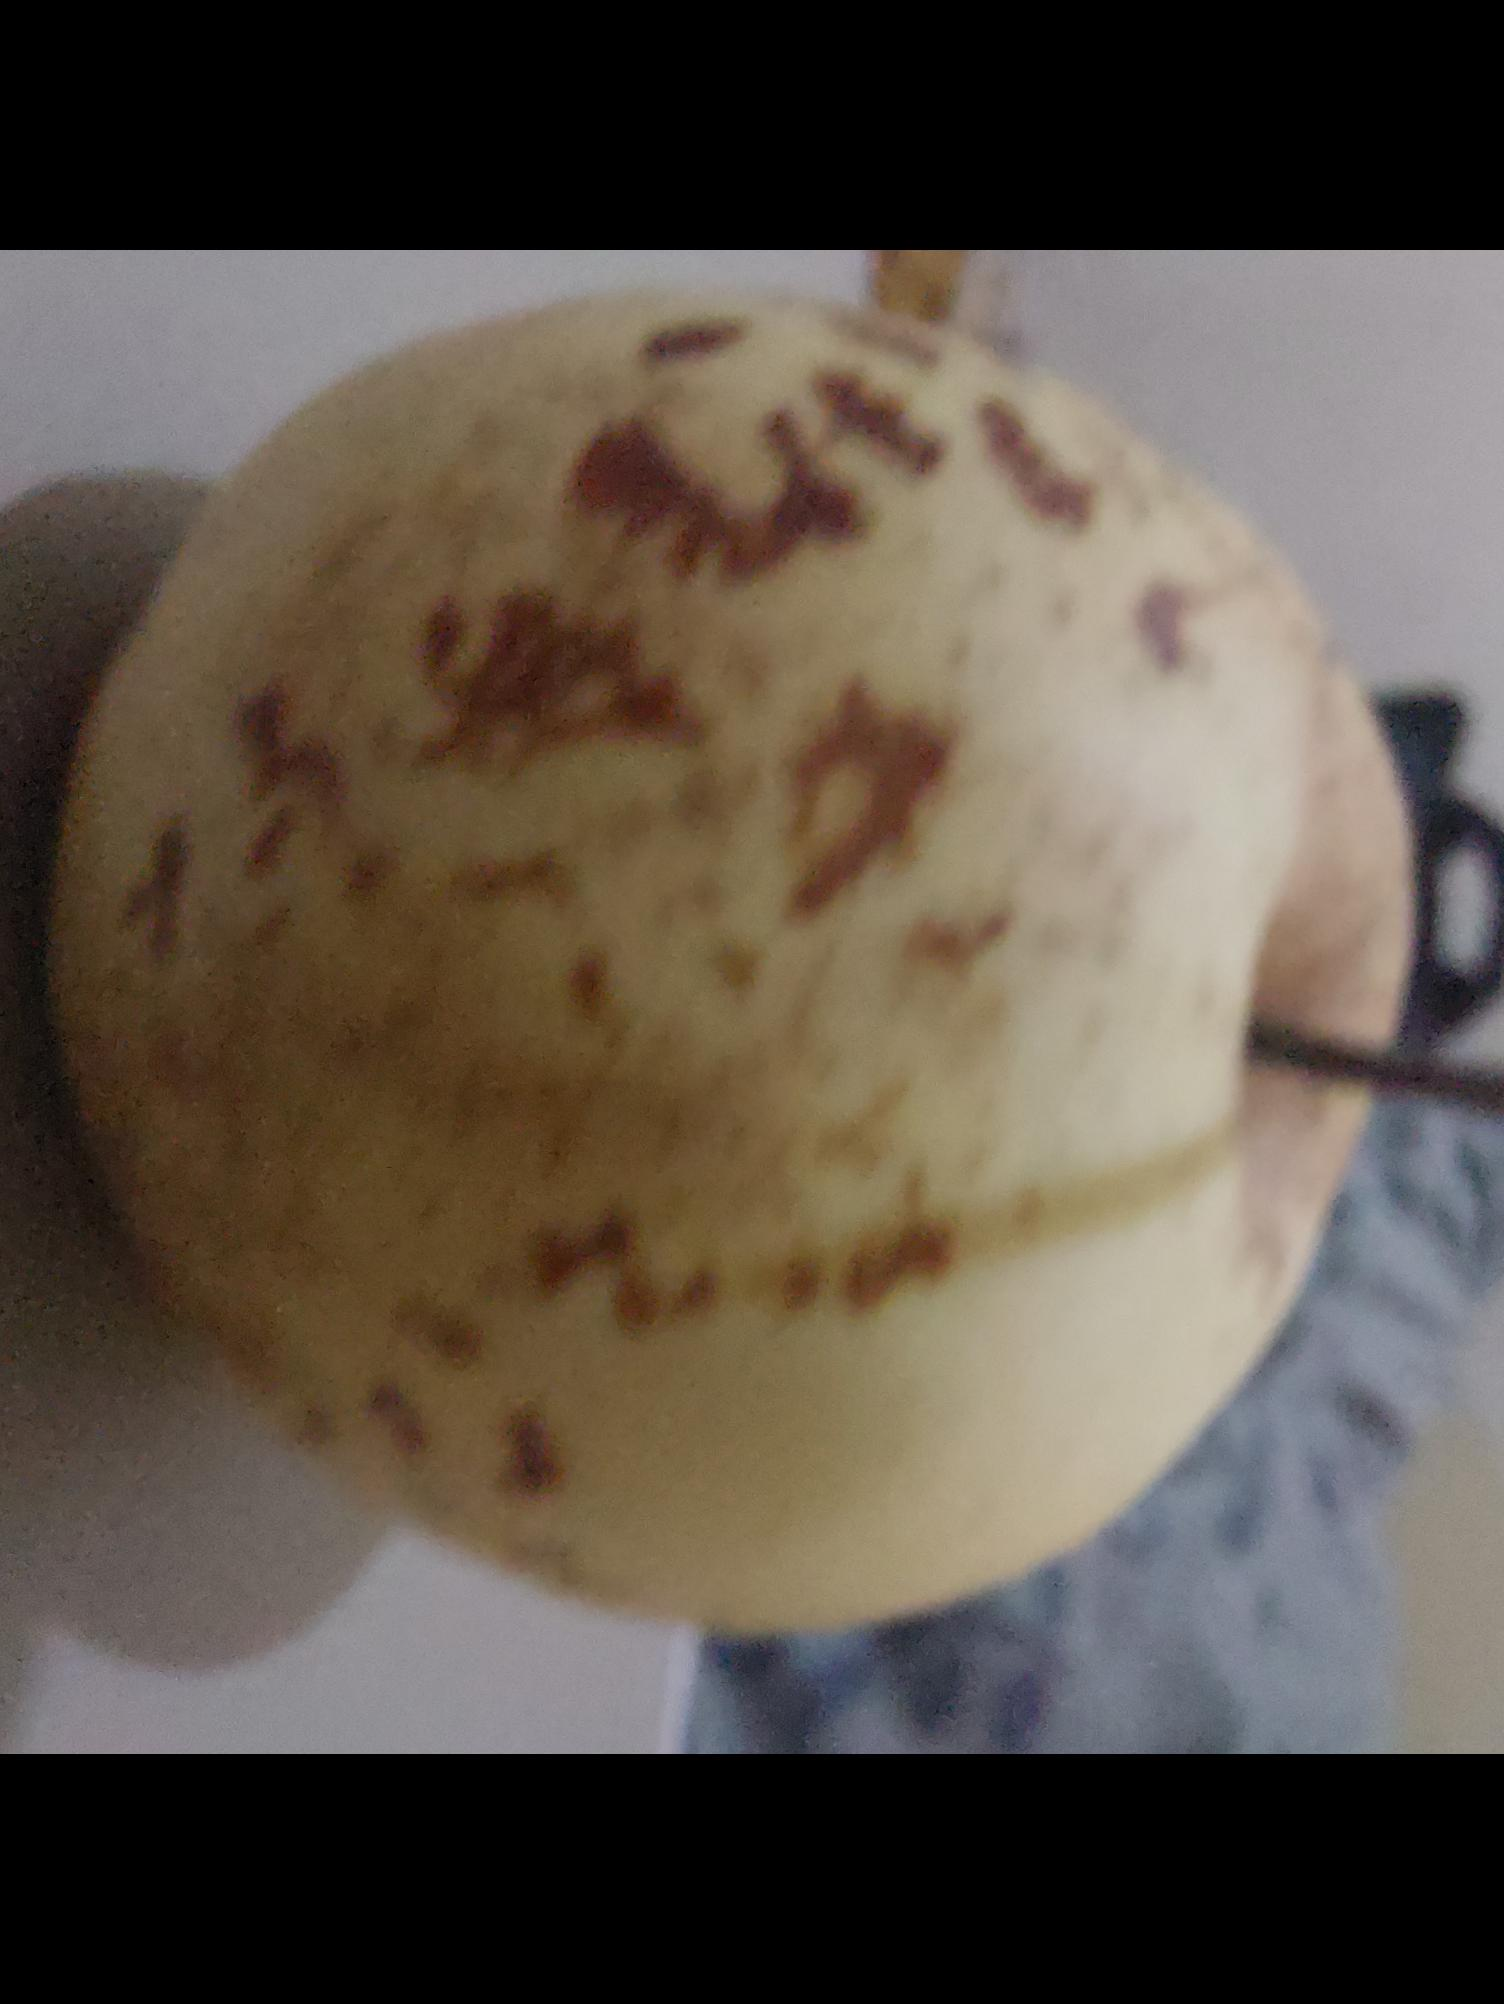Bad Pear: (14, 250, 1427, 1644)
